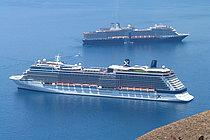Ship: (13, 56, 199, 112), (76, 22, 195, 52)
